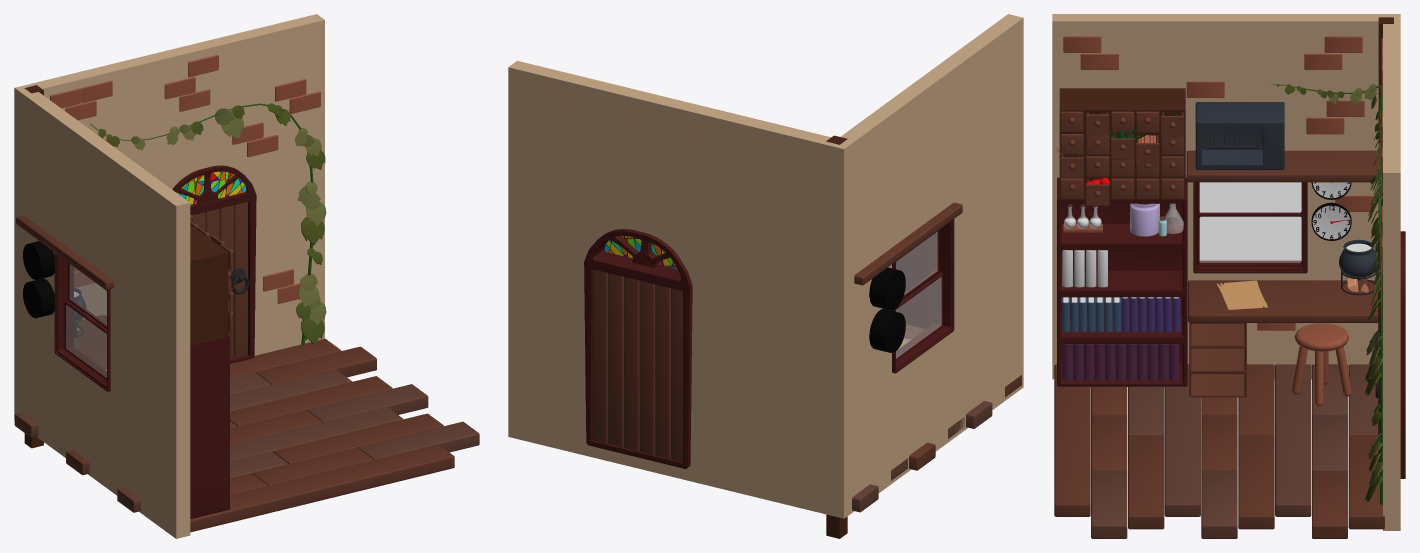
The model's file is Room.fbx.
3 renders of one model, left to right at view 1: azimuth 30°, elevation 25°; view 2: azimuth 150°, elevation 25°; view 3: azimuth 270°, elevation 25°, orthographic. The views are drawn at different scales.
Parts seen in each view (by area): view 1: Cube, Cube.021, Cube.001, Cube.121, Cube.072, Cube.030, Cube.007, Cube.006, Cube.012, Cube.028, Cube.004, Cube.010 (+17 smaller); view 2: Cube, Cube.030, Cube.033, Cube.028, Cube.035, Cube.032, Cube.036, Cube.034, Cube.029, Cube.021, Cube.031, Cube.023 (+4 smaller); view 3: Cube, Cube.021, Cube.019, Cube.024, Cube.121, Cube.029, Cube.013, Cube.001, Cube.072, Cube.007, Cube.023, Cube.022 (+47 smaller).
Part boxes in pixels (left/top/right/bottom): Cube: left=14, top=14, right=324, bottom=538; Cube.021: left=190, top=335, right=229, bottom=518; Cube.001: left=190, top=444, right=454, bottom=532; Cube.121: left=50, top=55, right=320, bottom=303; Cube.072: left=190, top=225, right=228, bottom=344; Cube.030: left=172, top=165, right=256, bottom=363; Cube.007: left=230, top=407, right=402, bottom=461; Cube.006: left=273, top=413, right=443, bottom=463; Cube.012: left=230, top=376, right=392, bottom=426; Cube.028: left=54, top=253, right=110, bottom=391; Cube.004: left=358, top=421, right=479, bottom=459; Cube.010: left=307, top=384, right=428, bottom=422; Cube: left=508, top=14, right=1023, bottom=518; Cube.030: left=584, top=229, right=692, bottom=468; Cube.033: left=639, top=281, right=655, bottom=454; Cube.028: left=892, top=219, right=954, bottom=373; Cube.035: left=608, top=273, right=623, bottom=447; Cube.032: left=655, top=284, right=670, bottom=458; Cube.036: left=592, top=269, right=607, bottom=443; Cube.034: left=624, top=277, right=639, bottom=450; Cube.029: left=896, top=272, right=943, bottom=360; Cube.021: left=896, top=235, right=932, bottom=328; Cube.031: left=671, top=288, right=682, bottom=461; Cube.023: left=854, top=202, right=962, bottom=285; Cube: left=1052, top=14, right=1400, bottom=530; Cube.021: left=1057, top=177, right=1187, bottom=386; Cube.019: left=1188, top=280, right=1378, bottom=322; Cube.024: left=1195, top=102, right=1284, bottom=169; Cube.121: left=1063, top=36, right=1382, bottom=456; Cube.029: left=1197, top=216, right=1303, bottom=266; Cube.013: left=1275, top=364, right=1311, bottom=516; Cube.001: left=1054, top=364, right=1090, bottom=516; Cube.072: left=1059, top=88, right=1185, bottom=199; Cube.007: left=1164, top=364, right=1200, bottom=516; Cube.023: left=1186, top=150, right=1380, bottom=182; Cube.022: left=1189, top=323, right=1246, bottom=397.
Size of the model in its own units: 2088 by 2110 by 1766.
Materials: 34 (1 with a texture image).
